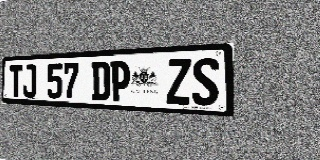5: (47, 63, 62, 99)
7: (63, 63, 79, 100)
D: (91, 61, 110, 101)
J: (23, 64, 36, 98)
P: (110, 61, 130, 102)
S: (192, 57, 219, 106)
T: (10, 65, 22, 97)
Z: (166, 58, 191, 105)
